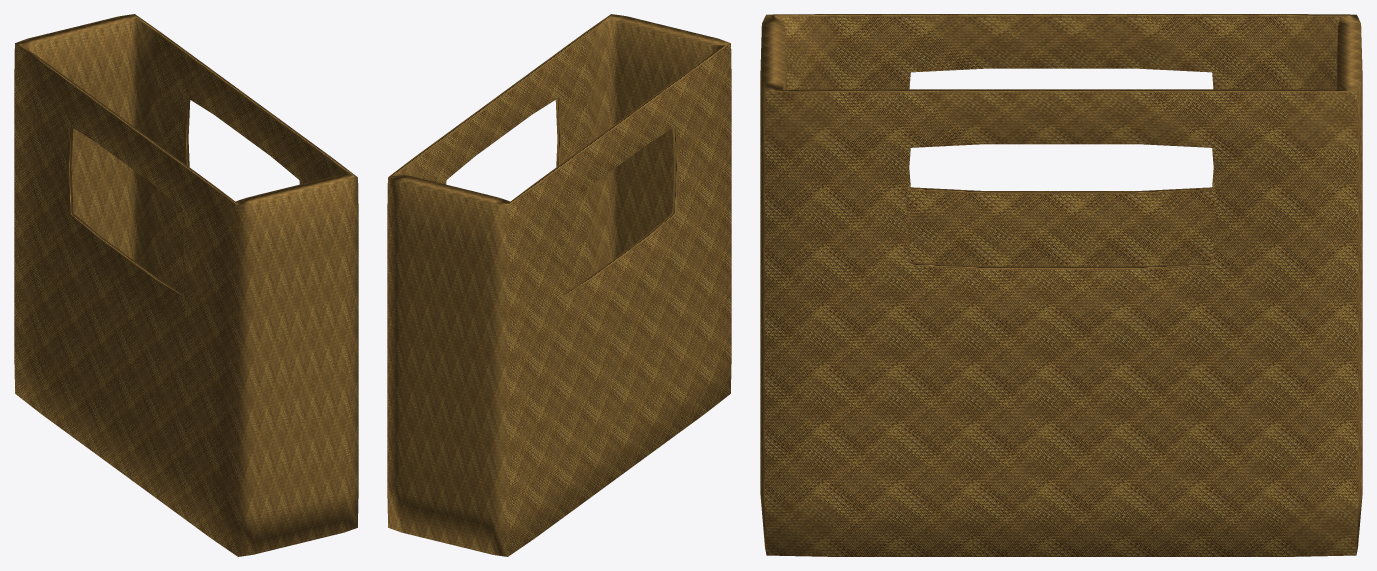
Rendered from basket.fbx.
The picture shows the model from 3 angles, left to right: view 1: azimuth 30°, elevation 25°; view 2: azimuth 150°, elevation 25°; view 3: azimuth 270°, elevation 25°; orthographic projection. The views are drawn at different scales.
Parts seen in each view (by area): view 1: basket; view 2: basket; view 3: basket.
Part boxes in pixels (x1,y1,x2,y2): basket: (14,14,358,556); basket: (387,14,731,556); basket: (760,14,1362,556).
Bounding box in the file's own units: 0.9712 × 2.69 × 3.13.
Materials: 1 (1 with a texture image).
